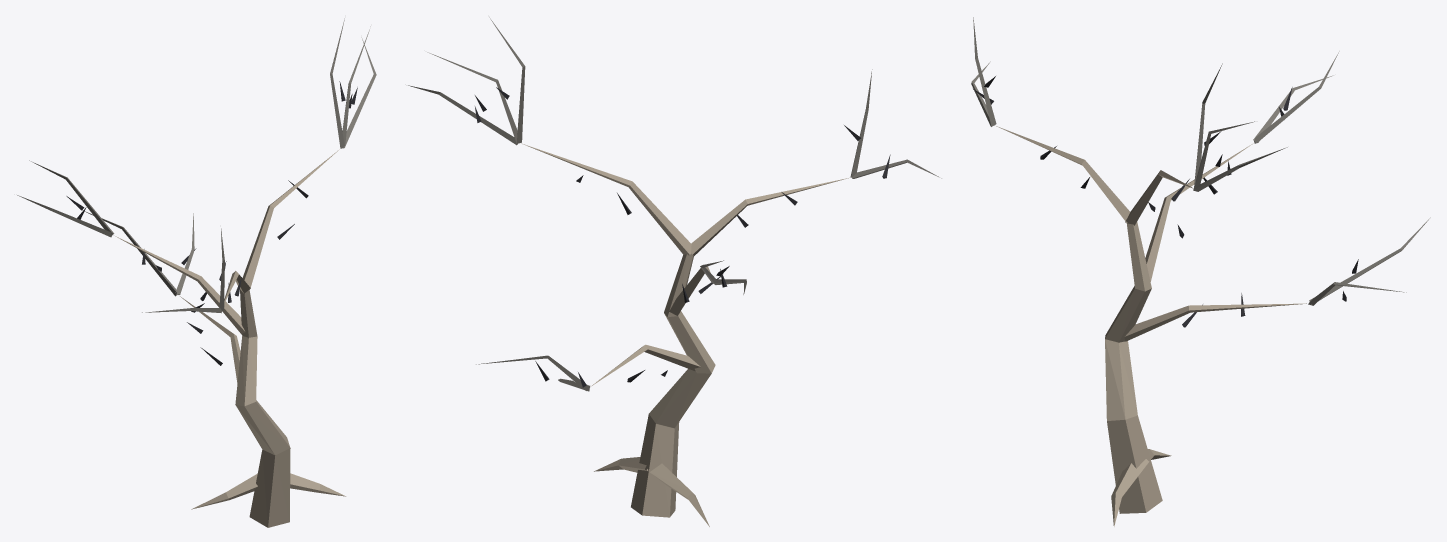
File: Circle7Piece_Tree14.obj
3 renders of one model, left to right at view 1: azimuth 30°, elevation 25°; view 2: azimuth 150°, elevation 25°; view 3: azimuth 270°, elevation 25°, orthographic. The views are drawn at different scales.
Visible parts, largest first — view 1: Circle7Piece_Tree14; view 2: Circle7Piece_Tree14; view 3: Circle7Piece_Tree14.
Boxes of the visible parts, bbox=[...] form: Circle7Piece_Tree14: bbox=[17, 18, 376, 527]; Circle7Piece_Tree14: bbox=[408, 17, 941, 526]; Circle7Piece_Tree14: bbox=[971, 17, 1430, 526].
Size of the model in its own units: 6.45 by 7.89 by 6.49.
Materials: 1 (1 with a texture image).
